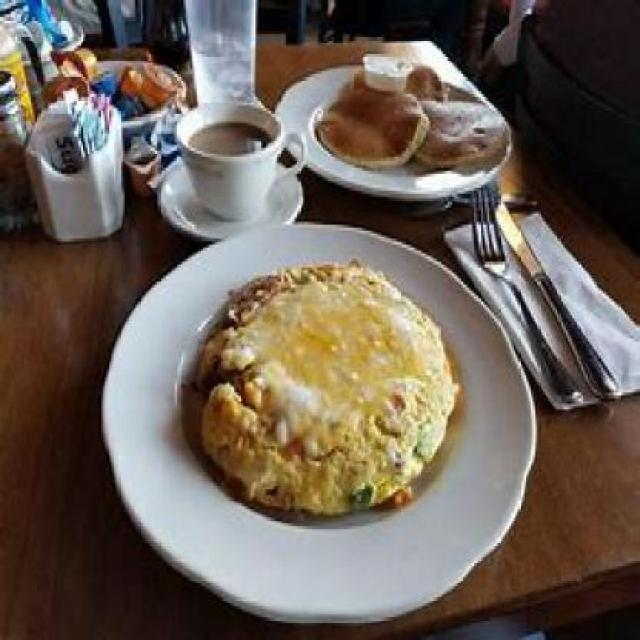omelette: (194, 256, 466, 518)
pancakes: (317, 51, 505, 177)
